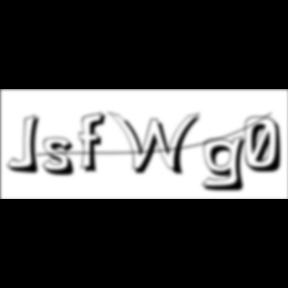0: (244, 115, 288, 174)
J: (8, 114, 46, 176)
W: (108, 110, 206, 178)
f: (79, 111, 112, 175)
g: (202, 134, 254, 194)
s: (43, 137, 82, 179)
